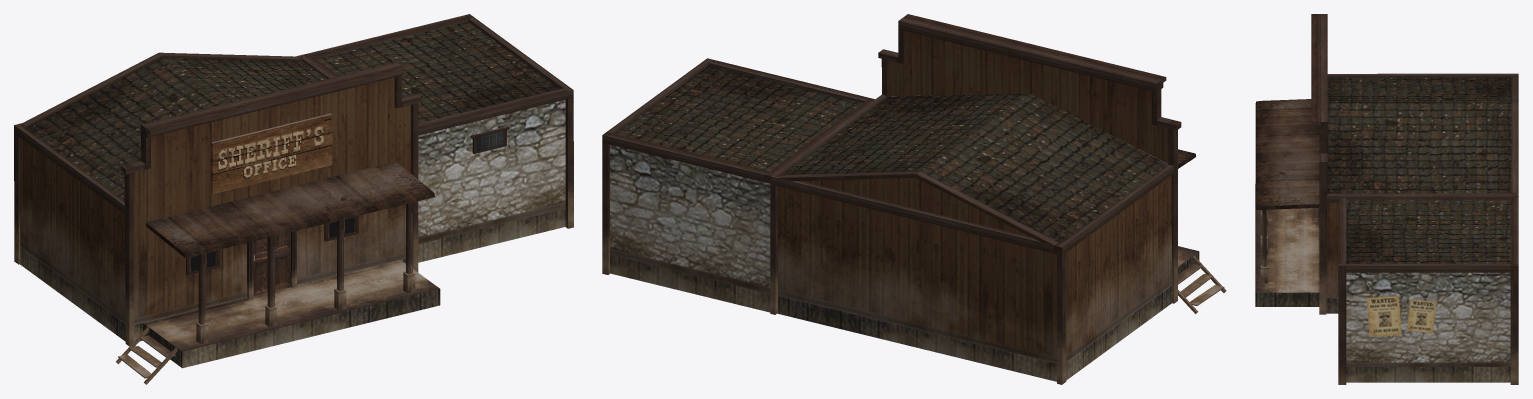
The model's file is SheriffHouse.fbx.
3 renders of one model, left to right at view 1: azimuth 30°, elevation 25°; view 2: azimuth 150°, elevation 25°; view 3: azimuth 270°, elevation 25°, orthographic. The views are drawn at different scales.
Visible parts, largest first — view 1: Window.003; view 2: Window.003; view 3: Window.003.
Boxes of the visible parts, <box> form: Window.003: <box>14,14,573,384</box>; Window.003: <box>602,14,1226,384</box>; Window.003: <box>1255,14,1518,384</box>.
Bounding box in the file's own units: 1246 × 643 × 697.
Materials: 2 (1 with a texture image).
